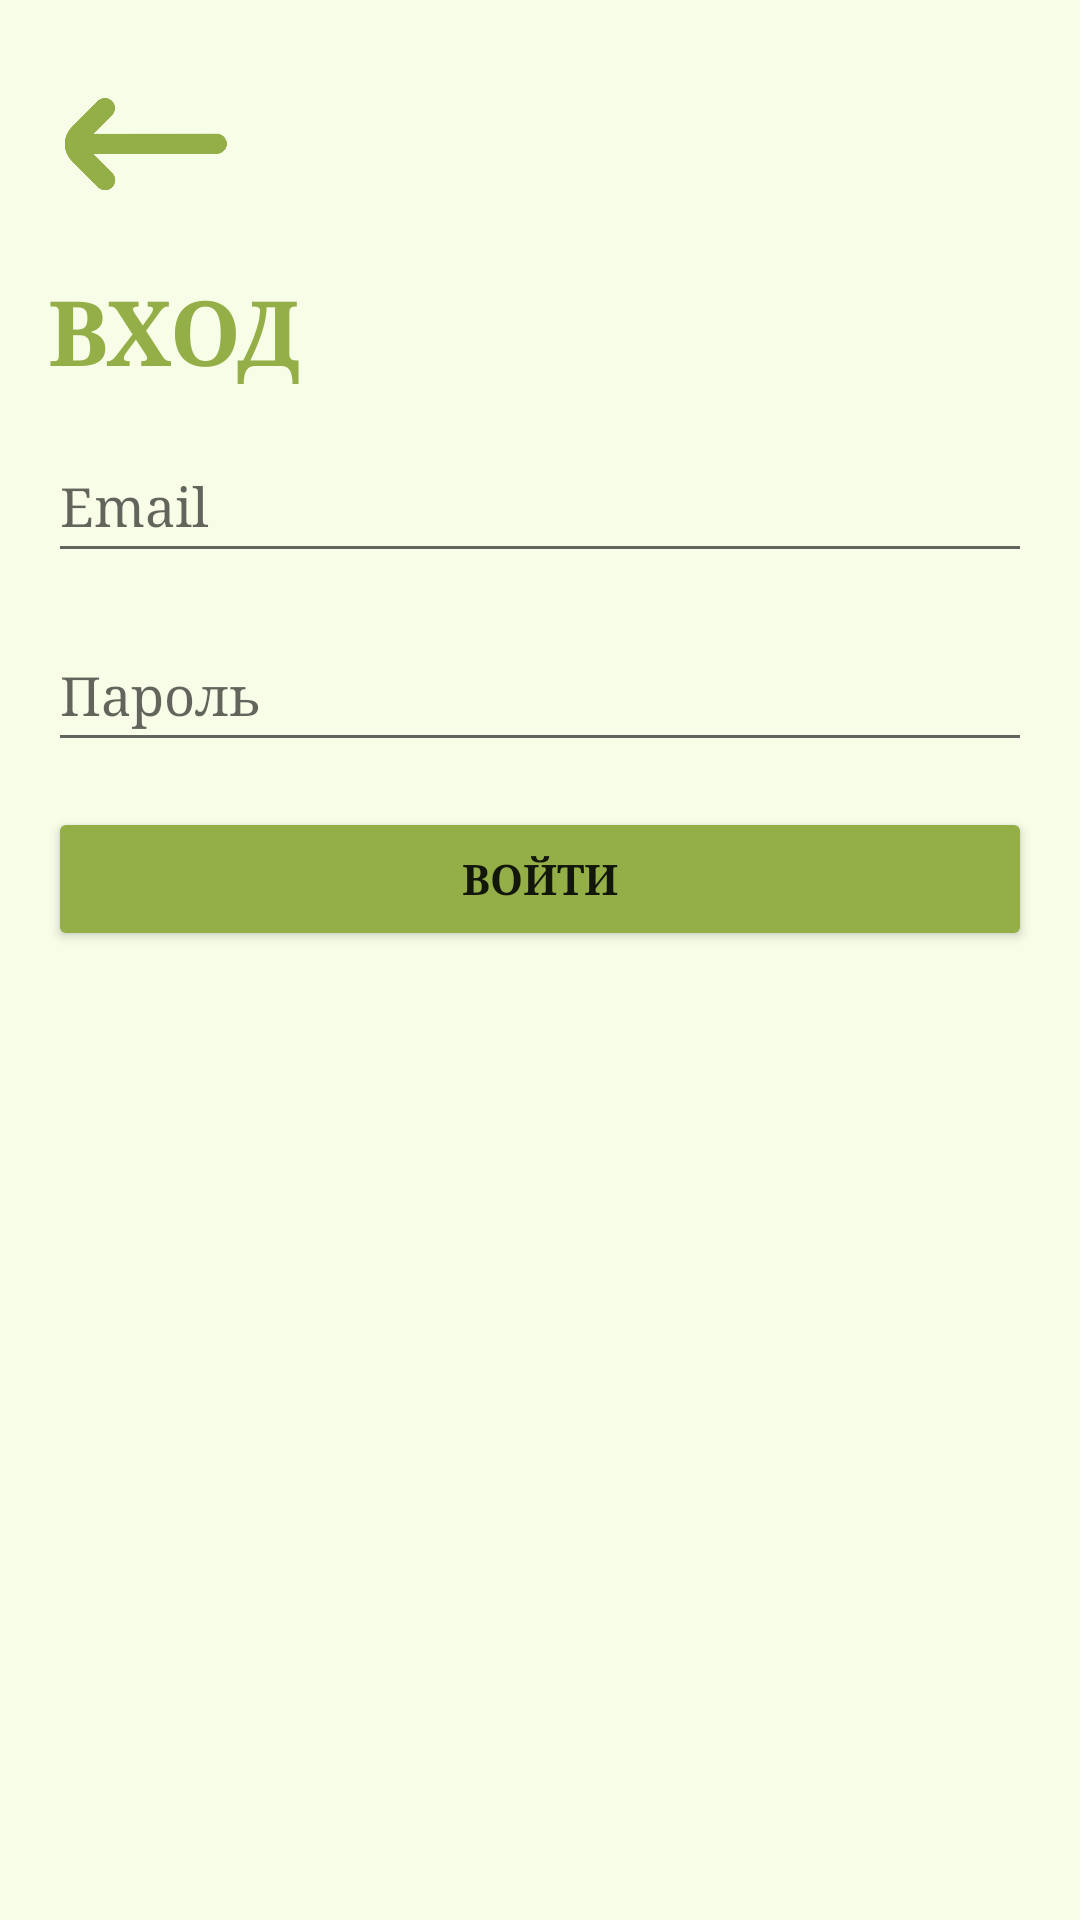

Screen size 1080px x 1920px. Icon name, then its box in pixels as (x1, y1, x2, y2):
Назад: (65, 98, 227, 190)
